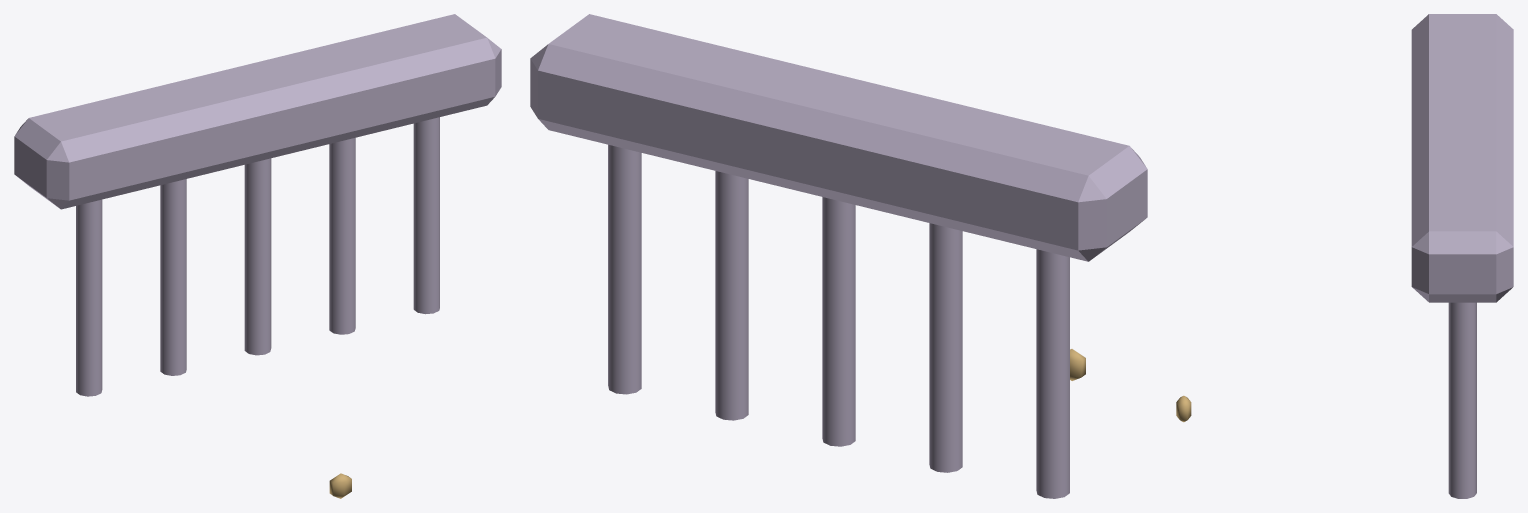
3 views of the same model, side by side, from view 1: azimuth 30°, elevation 25°; view 2: azimuth 150°, elevation 25°; view 3: azimuth 270°, elevation 25° (orthographic). The views are drawn at different scales.
Visible parts, largest first — view 1: g_s51; view 2: g_s51; view 3: g_s51.
Boxes of the visible parts, left/top/right/bottom form: g_s51: left=14, top=14, right=501, bottom=498; g_s51: left=530, top=14, right=1147, bottom=498; g_s51: left=1176, top=14, right=1513, bottom=498.
Size of the model in its own units: 0.315 by 0.206 by 0.1936.
